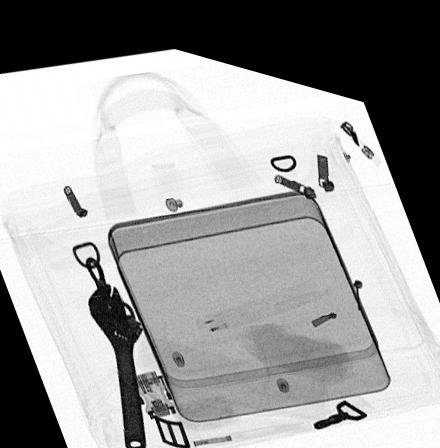Wrench: (88, 277, 148, 448)
